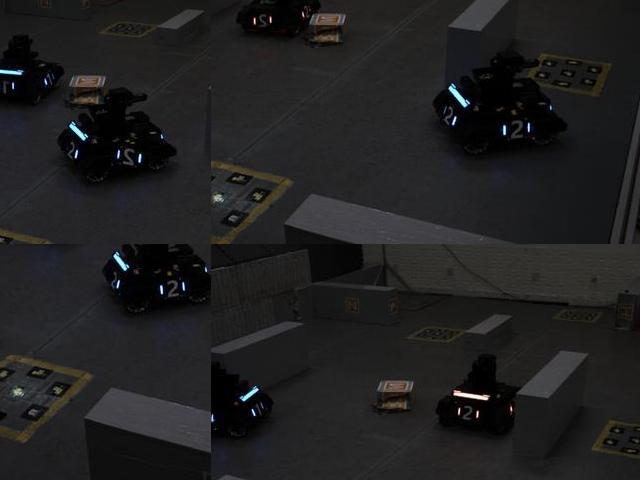armor: (111, 142, 150, 172), (156, 274, 190, 303), (500, 116, 534, 144), (451, 401, 485, 425), (437, 99, 459, 133), (247, 12, 280, 32), (63, 132, 80, 163), (106, 264, 123, 295), (0, 76, 20, 100), (247, 399, 268, 421), (40, 66, 58, 91), (297, 1, 313, 24), (211, 408, 221, 432)
